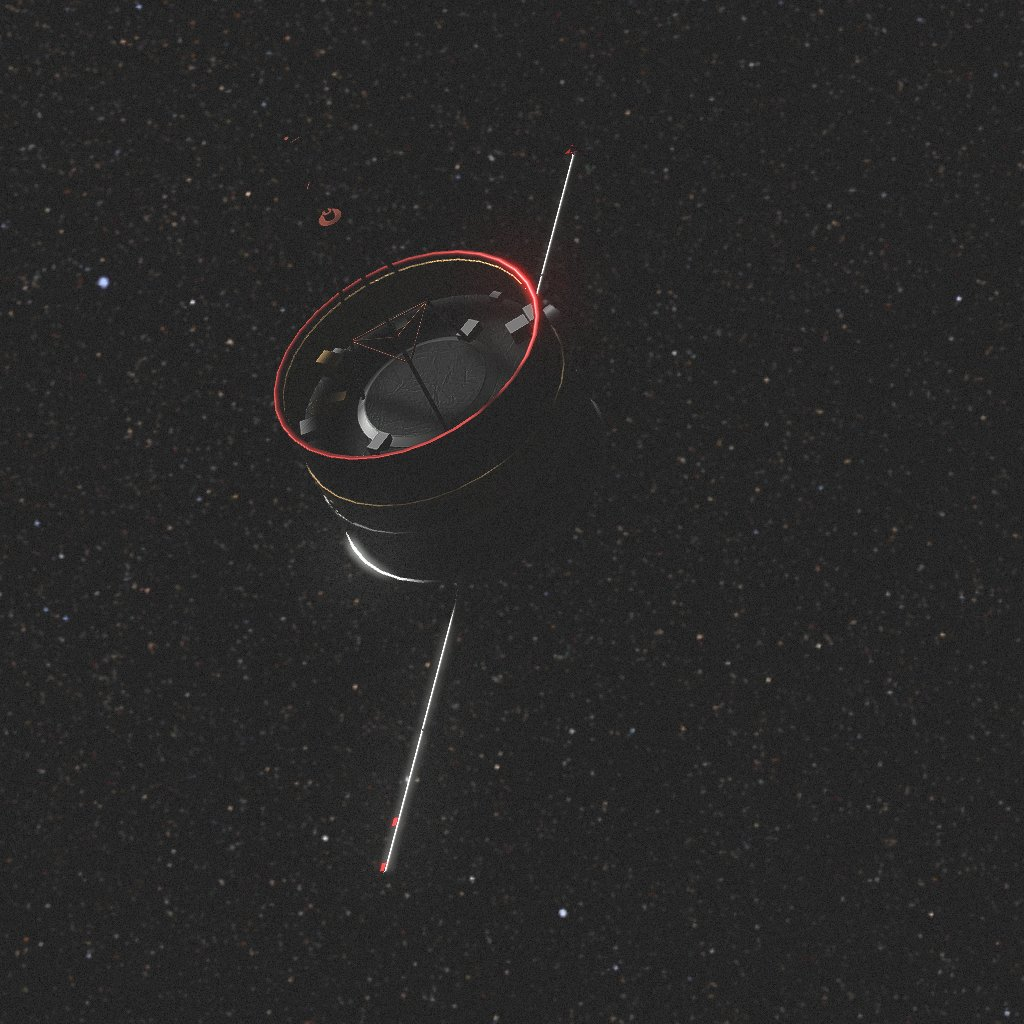double_star: (274, 137, 608, 876)
